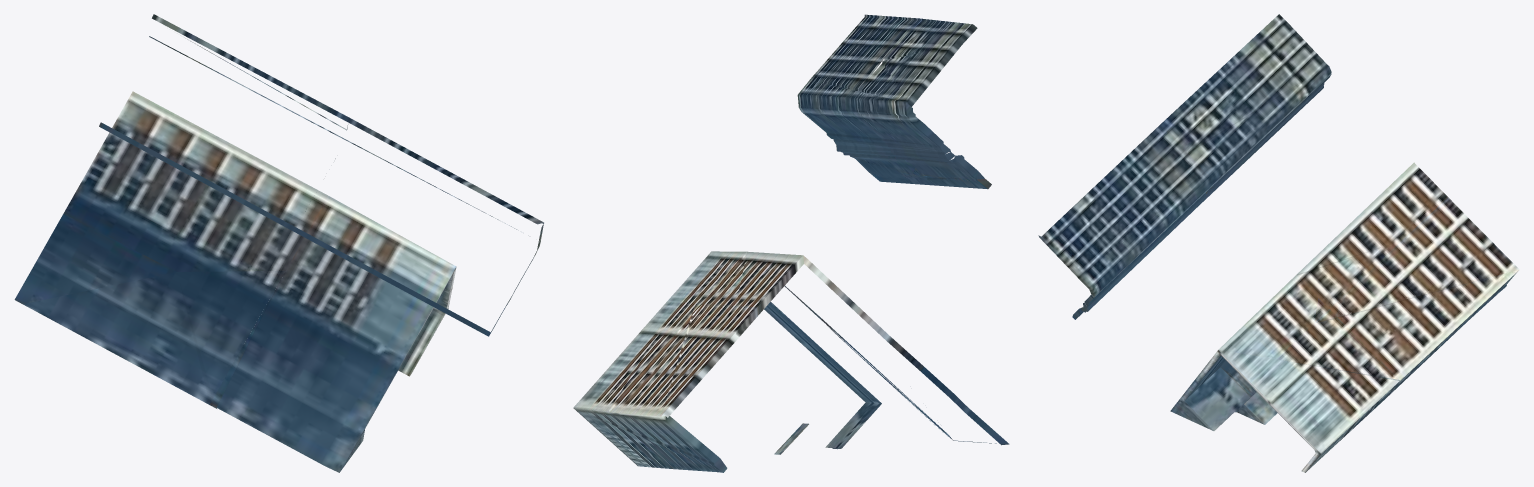
File: masp_tile_17.glb
3 views of the same model, side by side, from view 1: azimuth 30°, elevation 25°; view 2: azimuth 150°, elevation 25°; view 3: azimuth 270°, elevation 25° (orthographic). The views are drawn at different scales.
Bounding box in the file's own units: 38.54 × 39.74 × 49.3.
2 materials, 2 textured.
